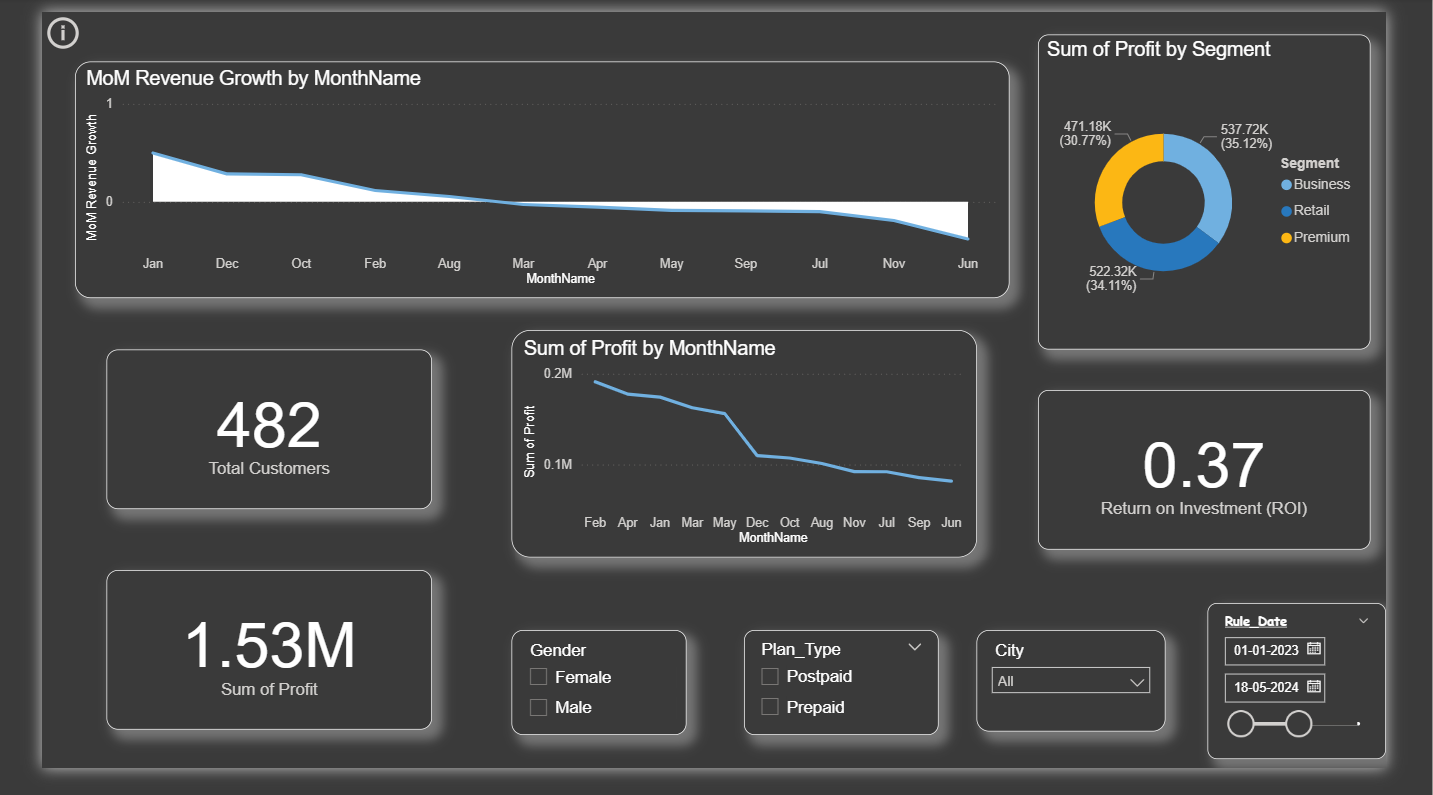

Layout of this report page (visuals, bound fields, positions):
{"tool":"powerbi","page":{"name":"Page 1","canvas":[1280,720],"ordinal":0},"visuals":[{"type":"slicer","fields":{"Values":["customer_profitability_db customer_profitability.Rule_Date"]},"box":[1110,563.3,170,148.3],"z":0},{"type":"lineChart","fields":{"Y":["Sum(customer_profitability_db customer_profitability.Profit)"],"Category":["DateTable.MonthName"]},"box":[446.7,303.3,443.3,216.7],"z":1000},{"type":"donutChart","fields":{"Y":["Sum(customer_profitability_db customer_profitability.Profit)"],"Category":["customer_profitability_db customer_profitability.Segment"]},"box":[948.3,21.7,316.7,300],"z":2000},{"type":"areaChart","fields":{"Category":["DateTable.MonthName"],"Y":["DateTable.MoM Revenue Growth"]},"box":[31.7,46.7,890,225],"z":3000},{"type":"card","fields":{"Values":["customer_profitability_db customer_profitability.Return on Investment (ROI)"]},"box":[948.3,360,316.7,151.7],"z":4000},{"type":"card","fields":{"Values":["customer_profitability_db customer_profitability.Total Customers"]},"box":[61.7,321.7,310,151.7],"z":5000},{"type":"card","fields":{"Values":["Sum(customer_profitability_db customer_profitability.Profit)"]},"box":[61.7,531.7,310,151.7],"z":7000},{"type":"slicer","fields":{"Values":["customer_profitability_db customer_profitability.City"]},"box":[890,588.3,180,96.7],"z":8000},{"type":"slicer","fields":{"Values":["customer_profitability_db customer_profitability.Plan_Type"]},"box":[668.3,588.3,185,100],"z":9000},{"type":"slicer","fields":{"Values":["customer_profitability_db customer_profitability.Gender"]},"box":[446.7,588.3,166.7,100],"z":10000},{"type":"textbox","box":[7,0,523,39],"z":10001}]}

Visuals, with their boxes in screenshot pixels (x1, y1, x2, y2), scaled from the page's 1280x720 canvas onto the 1433x795 screenshot:
slicer - customer_profitability_db customer_profitability.Rule_Date: [left=1243, top=622, right=1432, bottom=786]
lineChart - Sum(customer_profitability_db customer_profitability.Profit) x DateTable.MonthName: [left=500, top=335, right=996, bottom=574]
donutChart - Sum(customer_profitability_db customer_profitability.Profit) x customer_profitability_db customer_profitability.Segment: [left=1062, top=24, right=1416, bottom=355]
areaChart - DateTable.MonthName x DateTable.MoM Revenue Growth: [left=35, top=52, right=1032, bottom=300]
card - customer_profitability_db customer_profitability.Return on Investment (ROI): [left=1062, top=398, right=1416, bottom=565]
card - customer_profitability_db customer_profitability.Total Customers: [left=69, top=355, right=416, bottom=523]
card - Sum(customer_profitability_db customer_profitability.Profit): [left=69, top=587, right=416, bottom=755]
slicer - customer_profitability_db customer_profitability.City: [left=996, top=650, right=1198, bottom=756]
slicer - customer_profitability_db customer_profitability.Plan_Type: [left=748, top=650, right=955, bottom=760]
slicer - customer_profitability_db customer_profitability.Gender: [left=500, top=650, right=687, bottom=760]
textbox: [left=8, top=0, right=593, bottom=43]
